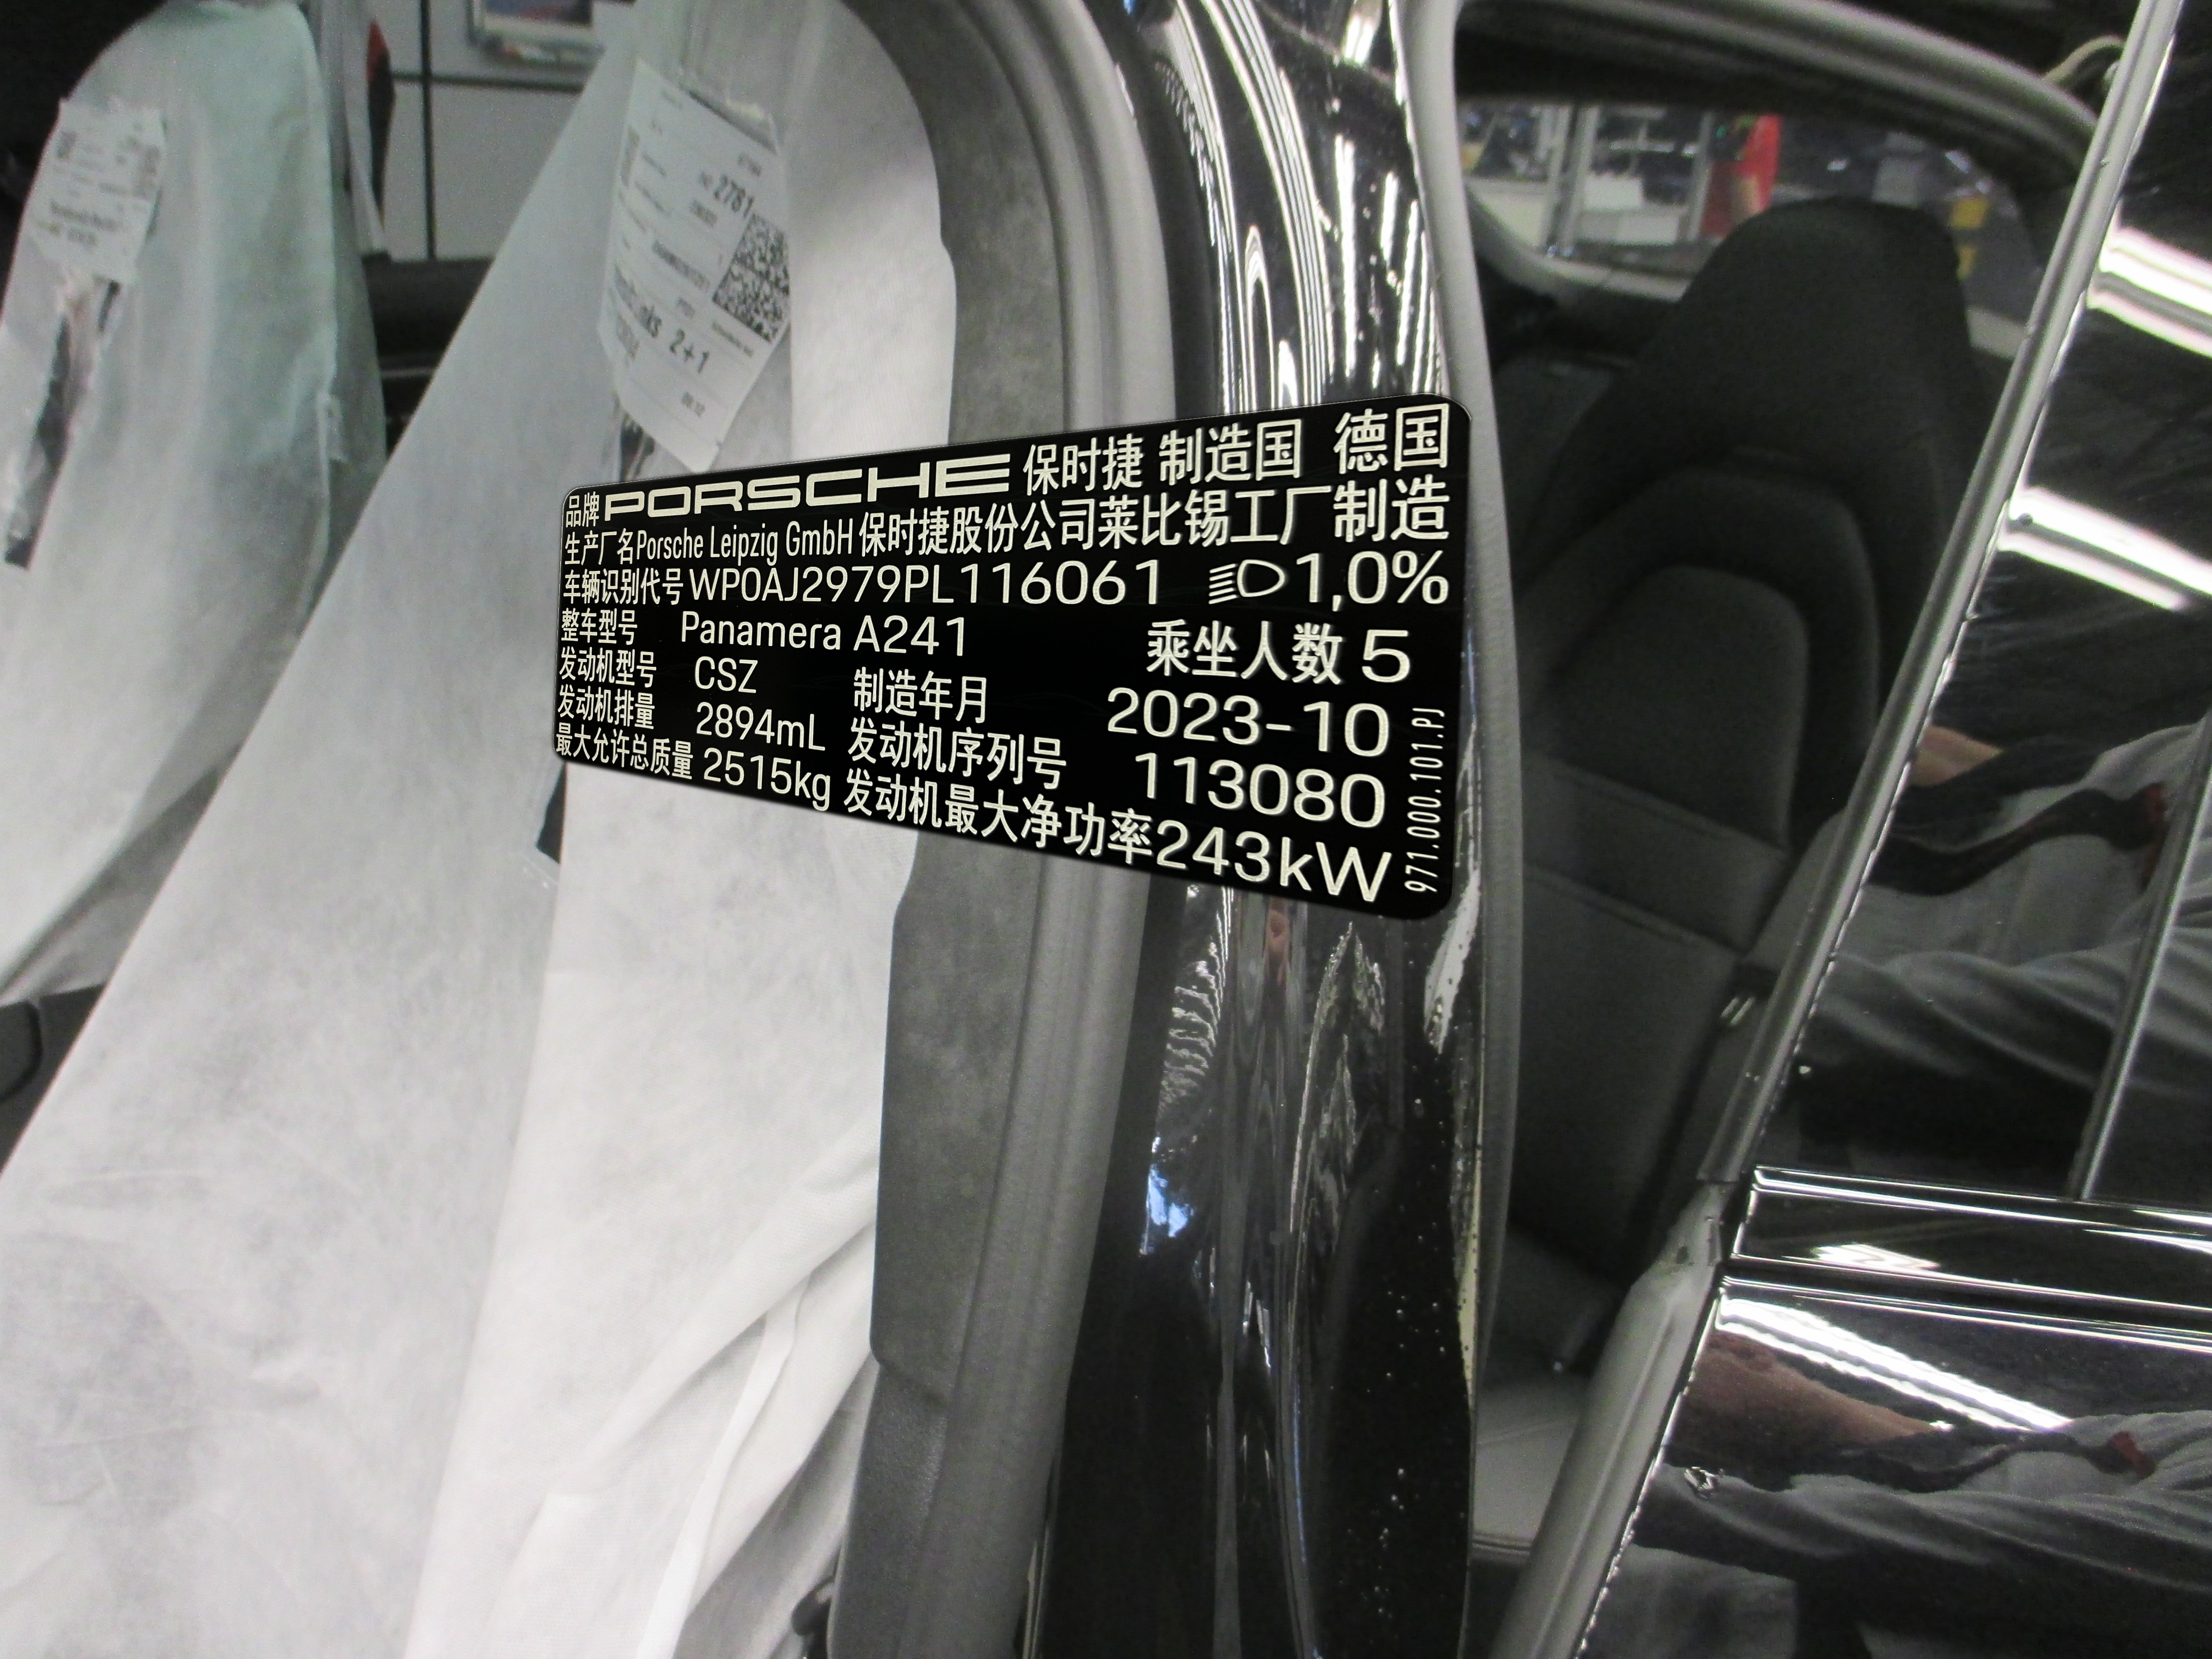Typlabel-China: (554, 394, 1470, 920)
